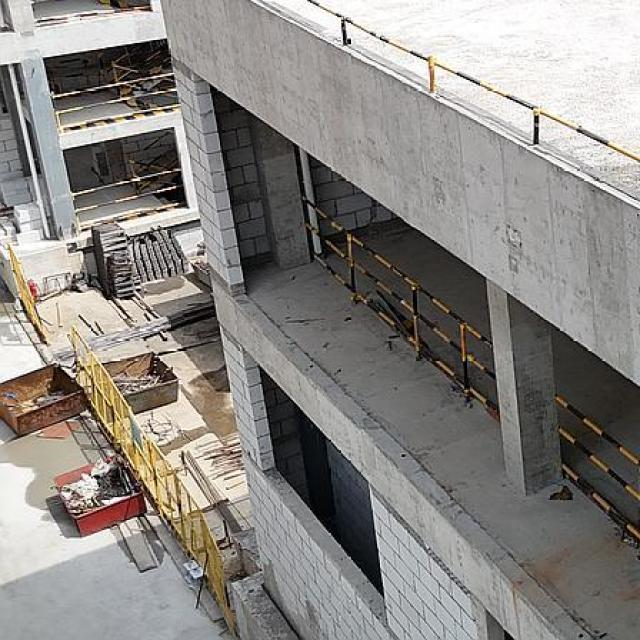edge_guardrail: (303, 0, 640, 166), (302, 196, 497, 427), (553, 394, 640, 546), (52, 72, 181, 131), (71, 166, 186, 231), (35, 5, 151, 22)
